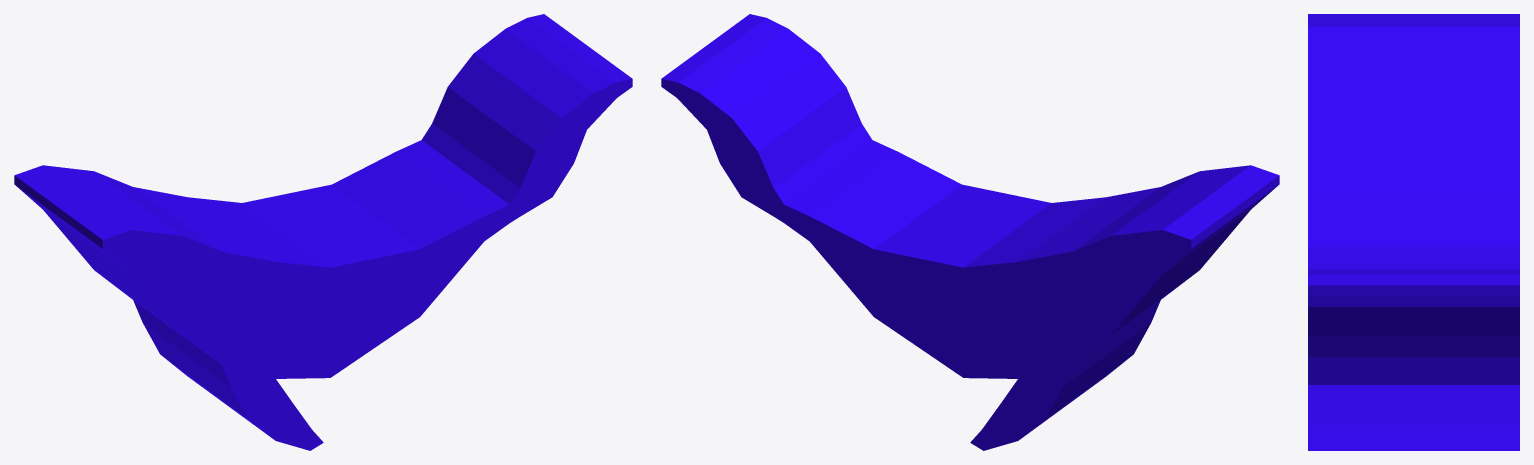
Rendered from whale_piece.fbx.
The picture shows the model from 3 angles, left to right: view 1: azimuth 30°, elevation 25°; view 2: azimuth 150°, elevation 25°; view 3: azimuth 270°, elevation 25°; orthographic projection. The views are drawn at different scales.
Parts seen in each view (by area): view 1: whale; view 2: whale; view 3: whale.
Part boxes in pixels (x1,y1,x2,y2): whale: (14,14,632,450); whale: (661,14,1279,450); whale: (1308,14,1519,450).
Bounding box in the file's own units: 456 × 242 × 132.
